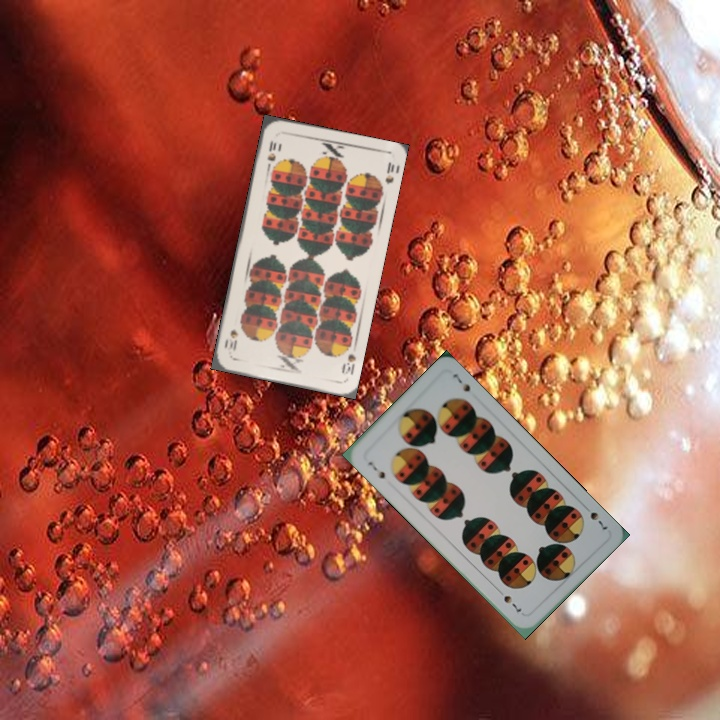S10: (263, 136, 279, 172), (338, 350, 359, 377)
S7: (579, 501, 611, 532), (364, 458, 388, 482)
